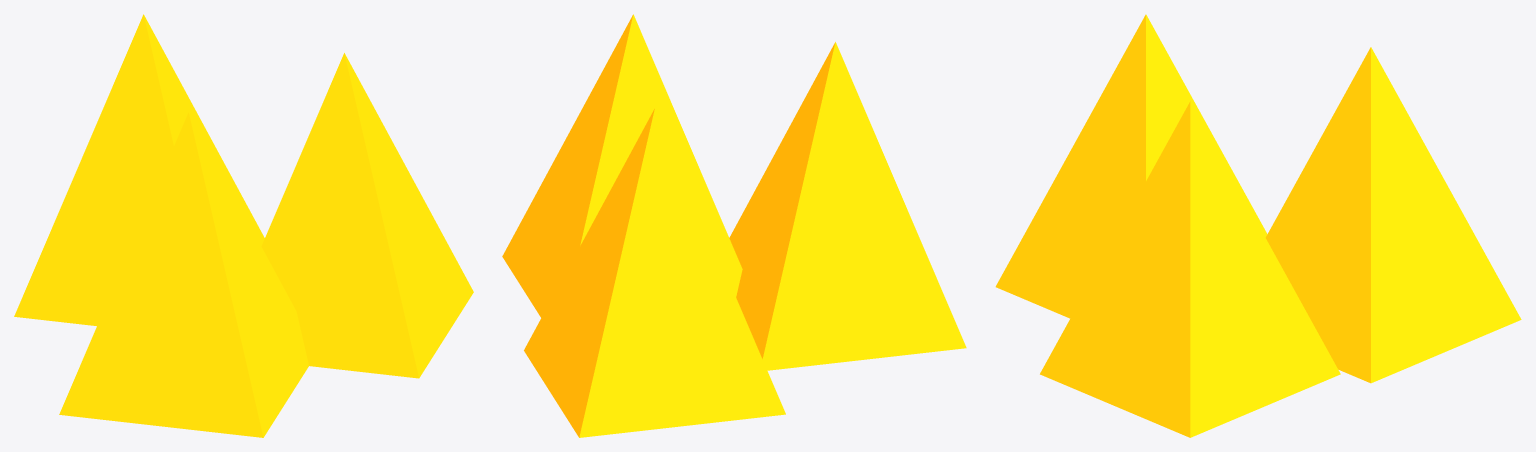
File: cook.glb
3 views of the same model, side by side, from view 1: azimuth 30°, elevation 25°; view 2: azimuth 150°, elevation 25°; view 3: azimuth 270°, elevation 25° (orthographic).
Visible parts, largest first — view 1: Cone, Cone.002, Cone.001; view 2: Cone.001, Cone, Cone.002; view 3: Cone.002, Cone.001, Cone.
Boxes of the visible parts, left/top/right/bottom form: Cone: left=59, top=112, right=308, bottom=437; Cone.002: left=261, top=53, right=473, bottom=378; Cone.001: left=14, top=14, right=264, bottom=325; Cone.001: left=524, top=108, right=785, bottom=437; Cone: left=729, top=42, right=966, bottom=370; Cone.002: left=502, top=14, right=742, bottom=317; Cone.002: left=1040, top=101, right=1340, bottom=437; Cone.001: left=1265, top=47, right=1521, bottom=383; Cone: left=995, top=14, right=1267, bottom=318.
Bounding box in the file's own units: 3.37 × 2 × 3.49.
